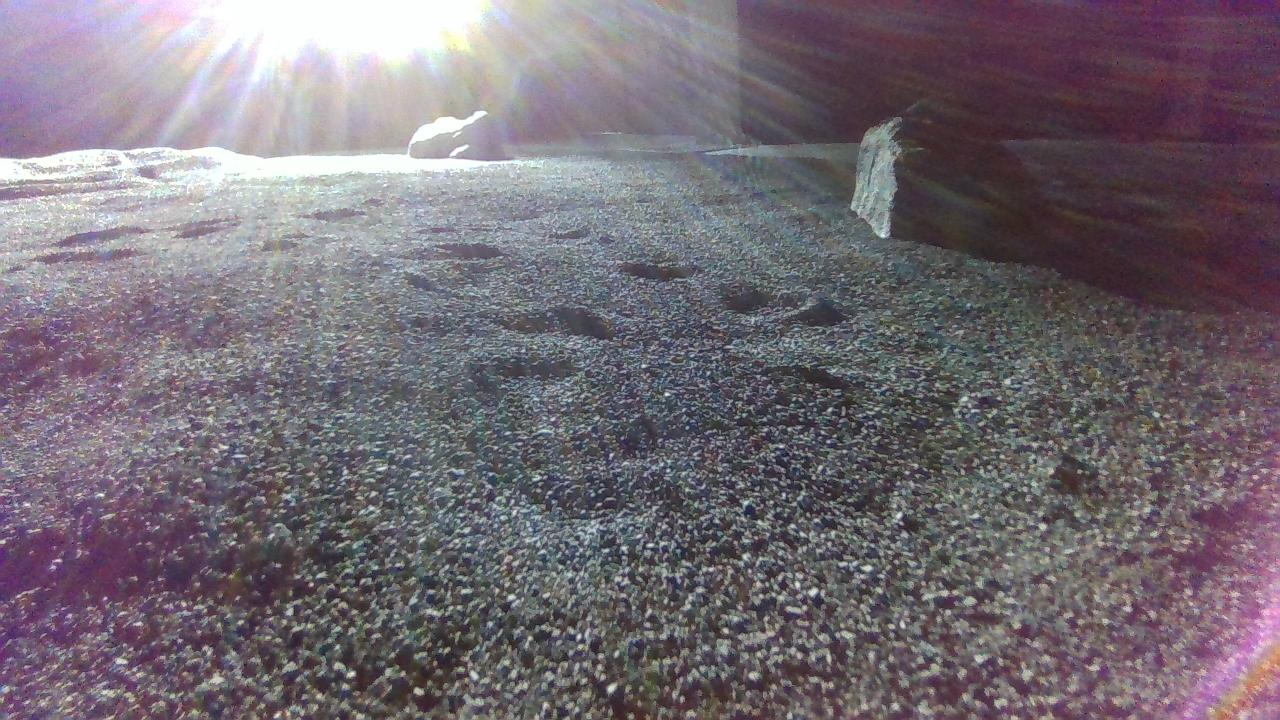rock: (852, 98, 1046, 240), (408, 109, 507, 157)
